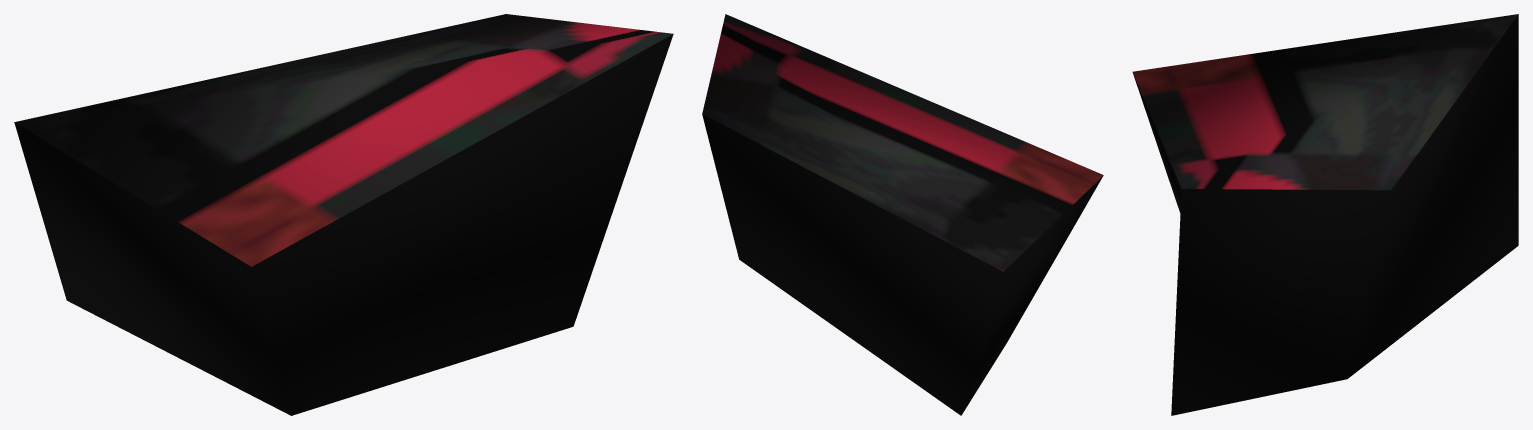
The picture shows the model from 3 angles, left to right: view 1: azimuth 30°, elevation 25°; view 2: azimuth 150°, elevation 25°; view 3: azimuth 270°, elevation 25°; orthographic projection. The views are drawn at different scales.
Parts seen in each view (by area): view 1: T1L4M003_9; view 2: T1L4M003_9; view 3: T1L4M003_9.
Part boxes in pixels (x1,y1,x2,y2): T1L4M003_9: (14, 14, 673, 415); T1L4M003_9: (702, 14, 1103, 415); T1L4M003_9: (1132, 14, 1518, 415).
Bounding box in the file's own units: 0.2334 × 0.1357 × 0.1455.
